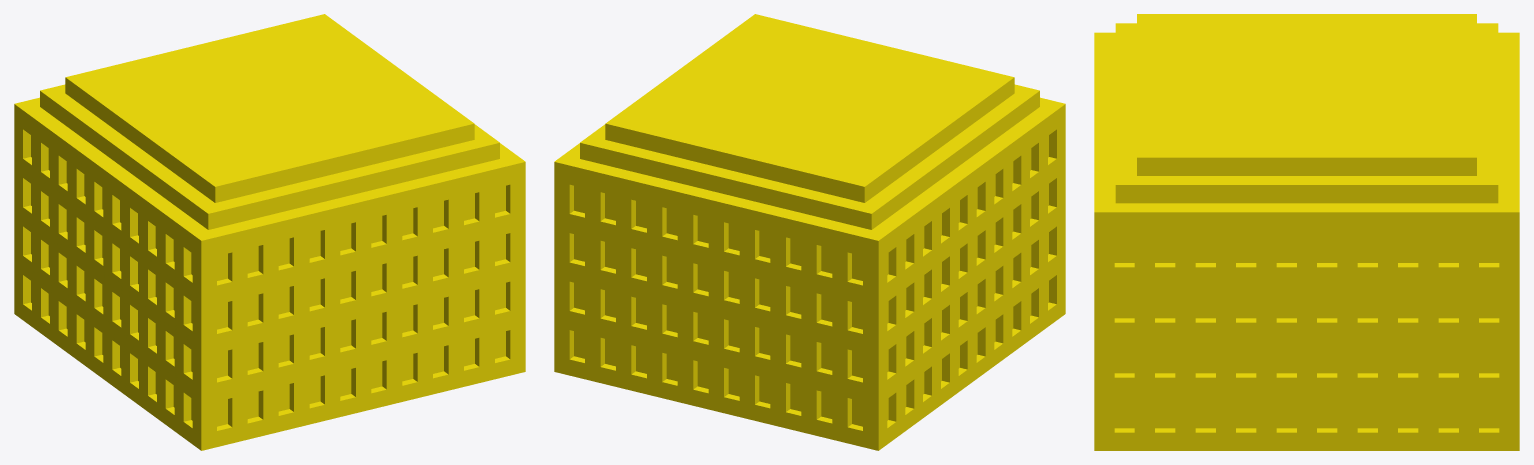
The model's file is gelber_turm.fbx.
3 renders of one model, left to right at view 1: azimuth 30°, elevation 25°; view 2: azimuth 150°, elevation 25°; view 3: azimuth 270°, elevation 25°, orthographic. The views are drawn at different scales.
Parts seen in each view (by area): view 1: imagetostl_mesh0; view 2: imagetostl_mesh0; view 3: imagetostl_mesh0.
Boxes of the visible parts, x1,y1,x2,y2 form: imagetostl_mesh0: (14,14,525,450); imagetostl_mesh0: (554,14,1065,450); imagetostl_mesh0: (1094,14,1519,450).
Bounding box in the file's own units: 1050 × 750 × 1050.
